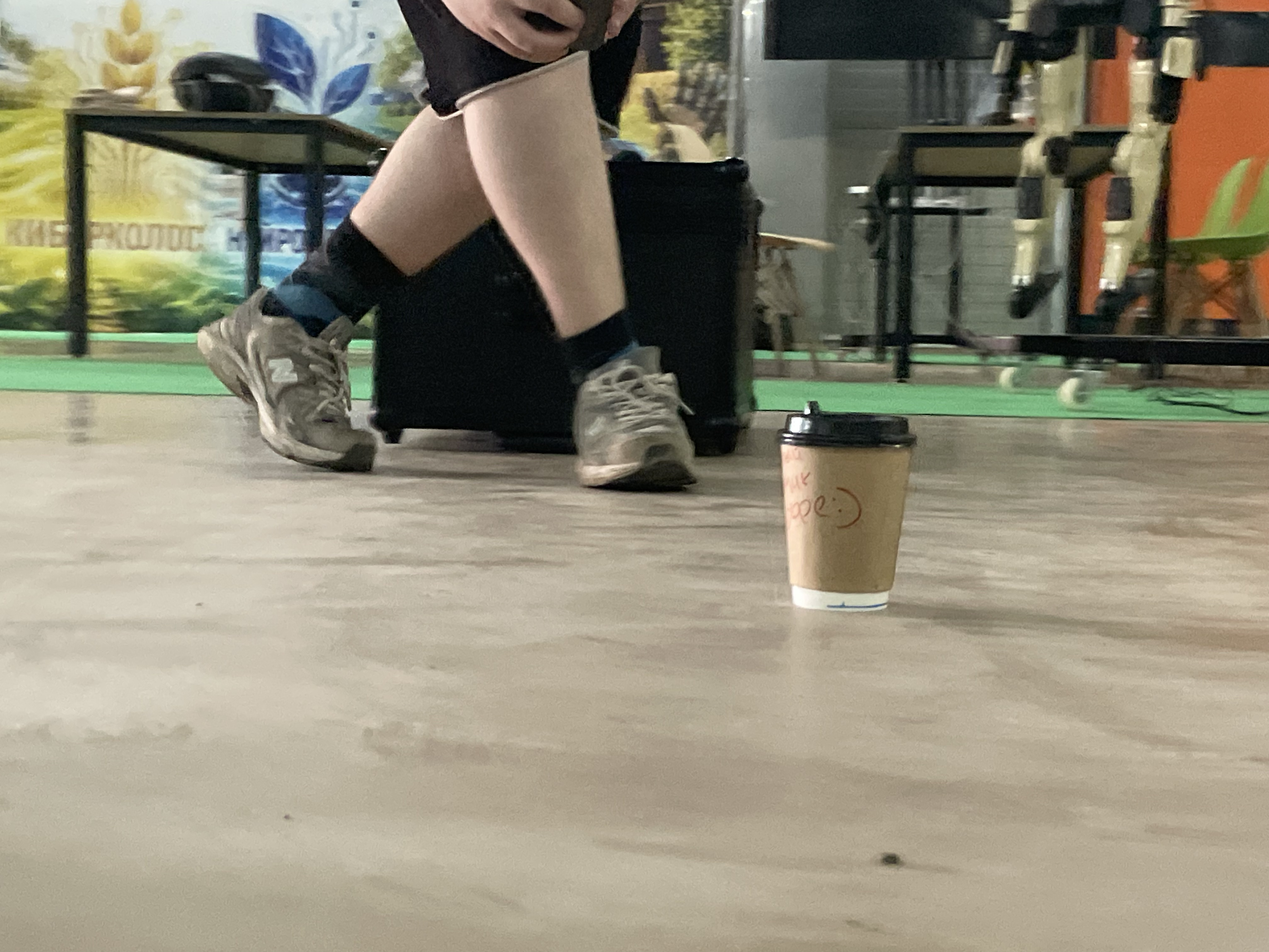cup: (777, 401, 916, 610)
